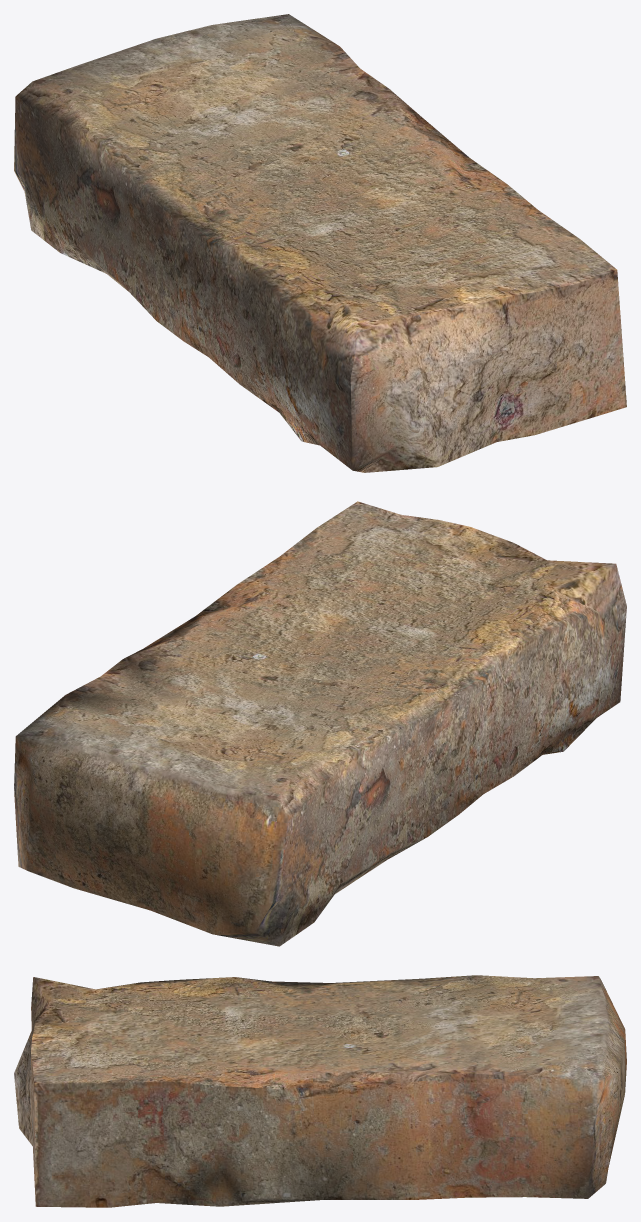
The model's file is sm_Brick_01_06.fbx.
The picture shows the model from 3 angles, top to bottom: view 1: azimuth 30°, elevation 25°; view 2: azimuth 150°, elevation 25°; view 3: azimuth 270°, elevation 25°; orthographic projection. The views are drawn at different scales.
Visible parts, largest first — view 1: sm_Brick_01_06_LOD0; view 2: sm_Brick_01_06_LOD0; view 3: sm_Brick_01_06_LOD0.
Boxes of the visible parts, x1,y1,x2,y2 form: sm_Brick_01_06_LOD0: (14,14,626,472); sm_Brick_01_06_LOD0: (14,501,626,946); sm_Brick_01_06_LOD0: (14,975,626,1207).
Size of the model in its own units: 12.23 by 26.34 by 6.72.
